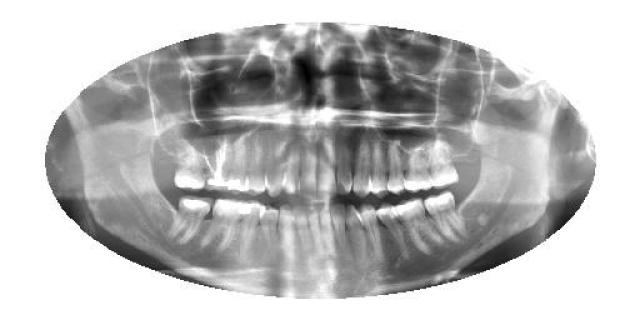Fillings: (168, 195, 212, 243), (238, 201, 262, 254), (226, 142, 249, 194)
